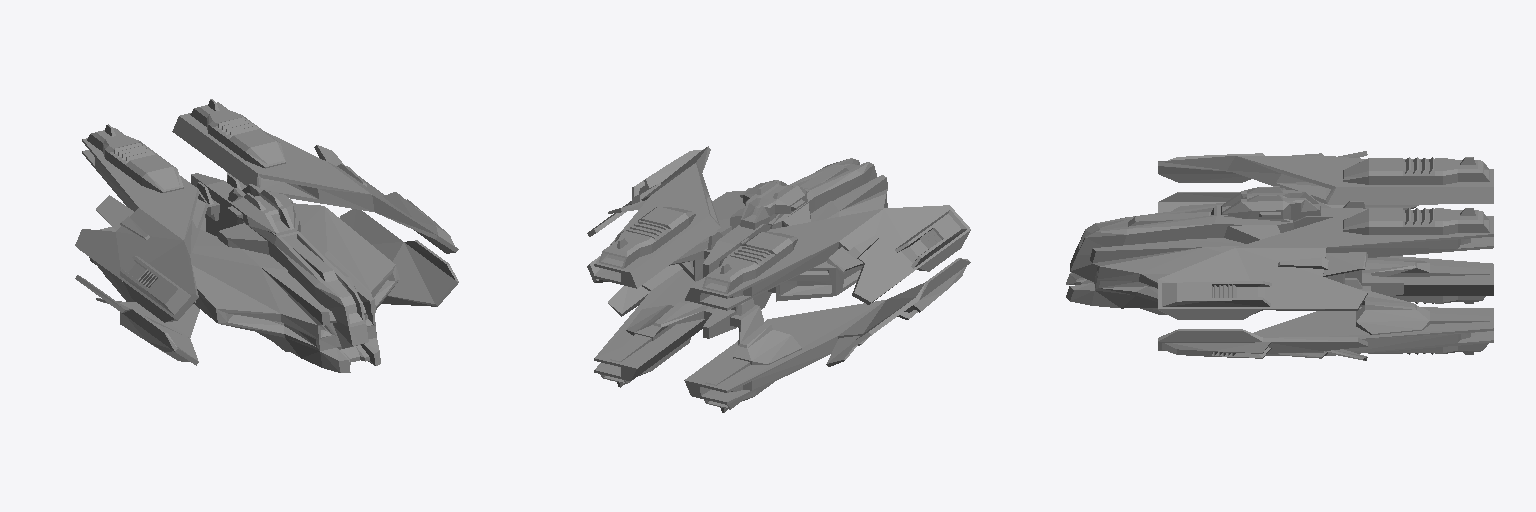
File: Free-Scifi-Fighter.obj
The picture shows the model from 3 angles: view 1: azimuth 30°, elevation 25°; view 2: azimuth 150°, elevation 25°; view 3: azimuth 270°, elevation 25°; orthographic projection.
Parts seen in each view (by area): view 1: SciFi_Fighter_AK5; view 2: SciFi_Fighter_AK5; view 3: SciFi_Fighter_AK5.
Boxes of the visible parts, <box> form: SciFi_Fighter_AK5: <box>75,99,458,372</box>; SciFi_Fighter_AK5: <box>587,146,970,412</box>; SciFi_Fighter_AK5: <box>1066,151,1493,360</box>.
Bounding box in the file's own units: 15.44 × 7.48 × 19.82.